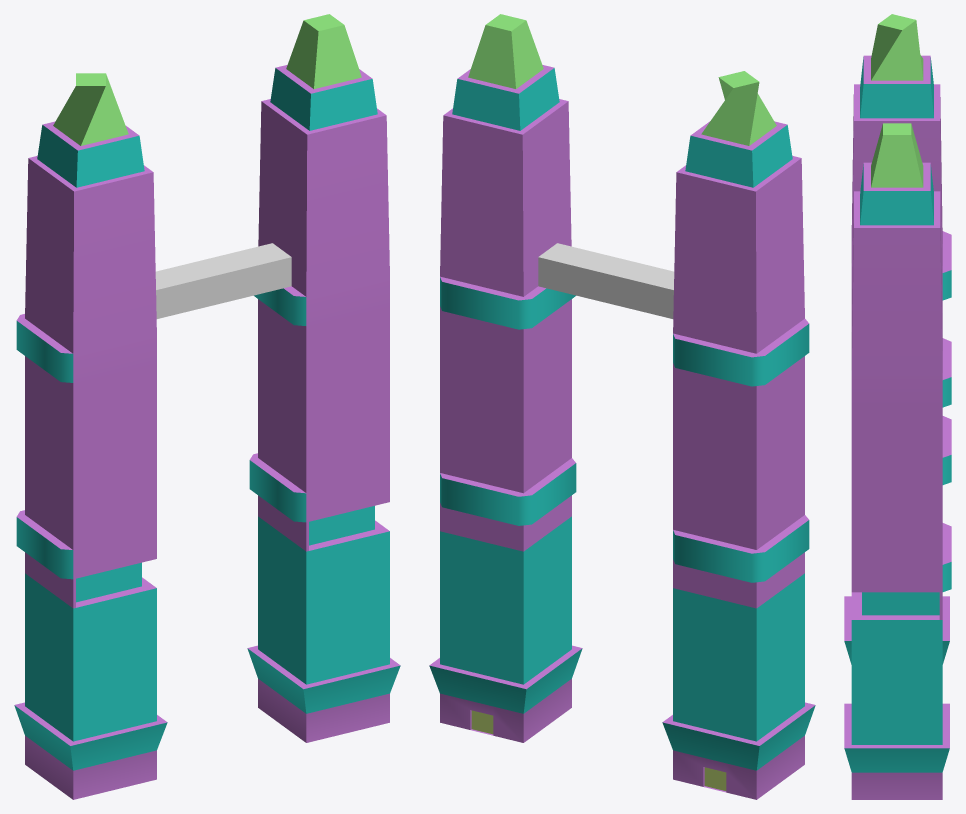
The model's file is Main_Building.fbx.
3 renders of one model, left to right at view 1: azimuth 30°, elevation 25°; view 2: azimuth 150°, elevation 25°; view 3: azimuth 270°, elevation 25°, orthographic. The views are drawn at different scales.
Visible parts, largest first — view 1: cladire003, cladire002, Box135; view 2: cladire003, cladire002, Box135; view 3: cladire002, cladire003.
Part boxes in pixels (left/top/right/bottom): cladire003: left=14, top=73, right=167, bottom=799; cladire002: left=247, top=14, right=400, bottom=742; Box135: left=155, top=243, right=291, bottom=318; cladire003: left=662, top=71, right=815, bottom=799; cladire002: left=429, top=14, right=582, bottom=742; Box135: left=538, top=243, right=674, bottom=318; cladire002: left=844, top=123, right=951, bottom=799; cladire003: left=844, top=14, right=951, bottom=664.
Bounding box in the file's own units: 340 × 678 × 101.
